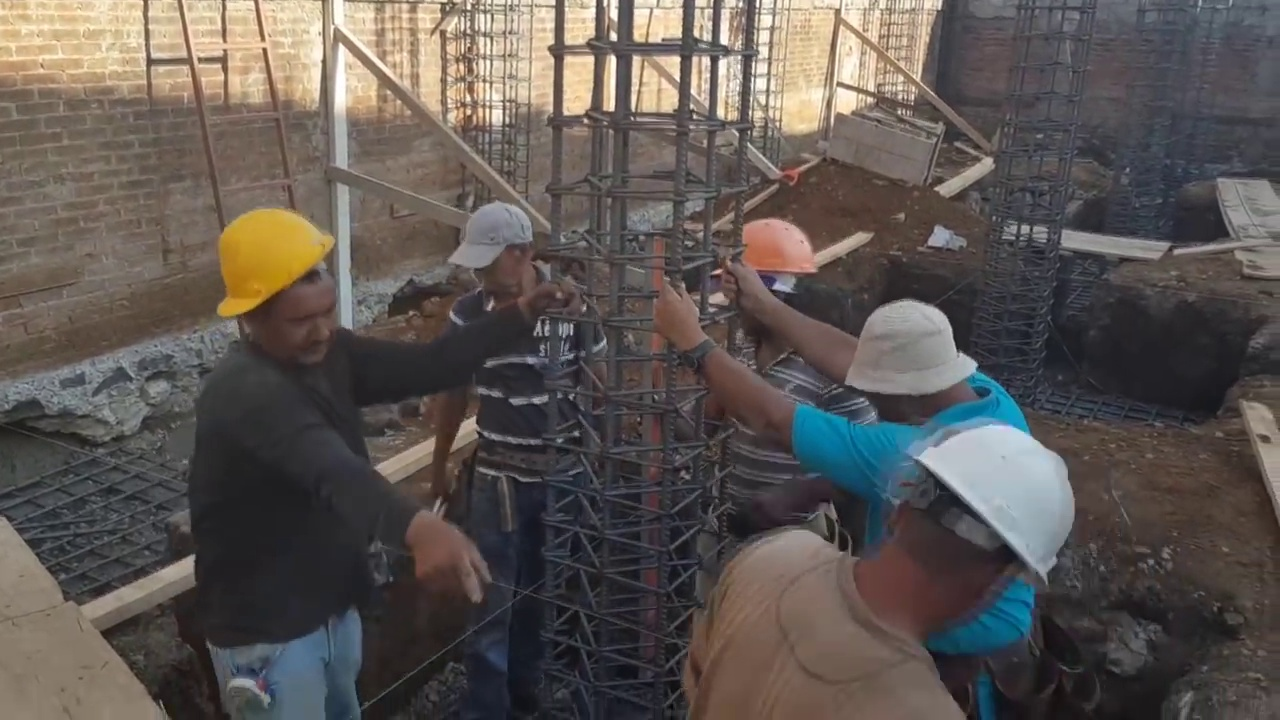helmet: (915, 424, 1070, 588), (211, 205, 333, 319), (732, 221, 826, 330), (739, 221, 824, 277)
helmet-off: (846, 303, 983, 433), (444, 205, 554, 303)
helmet-on: (845, 426, 1077, 644), (211, 194, 342, 372)
person: (185, 192, 580, 720), (681, 422, 1087, 717), (658, 260, 1031, 507), (426, 199, 594, 678), (688, 220, 838, 608)
